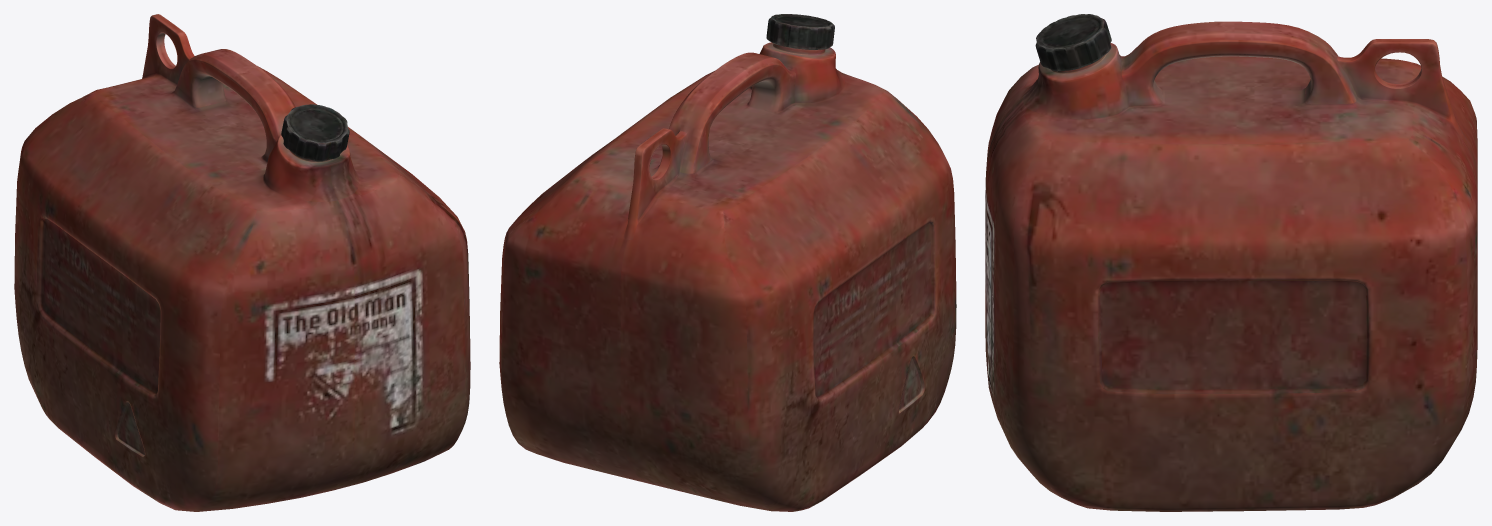
File: plastic_jerrycan.glb
3 views of the same model, side by side, from view 1: azimuth 30°, elevation 25°; view 2: azimuth 150°, elevation 25°; view 3: azimuth 270°, elevation 25° (orthographic). The views are drawn at different scales.
Visible parts, largest first — view 1: plastic_jerrycan; view 2: plastic_jerrycan; view 3: plastic_jerrycan.
Part boxes in pixels (x1,y1,x2,y2): plastic_jerrycan: [14, 14, 470, 511]; plastic_jerrycan: [499, 14, 956, 511]; plastic_jerrycan: [985, 14, 1477, 511].
Bounding box in the file's own units: 0.268 × 0.3184 × 0.3409.
1 material, 1 textured.
